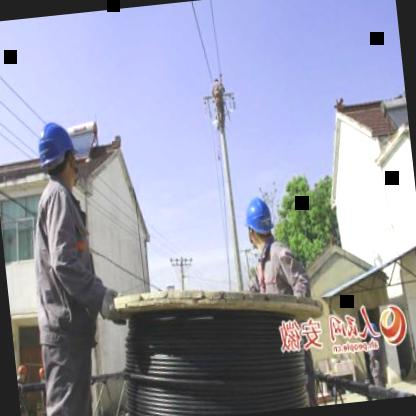helmet: (33, 115, 81, 192), (240, 191, 276, 255)
